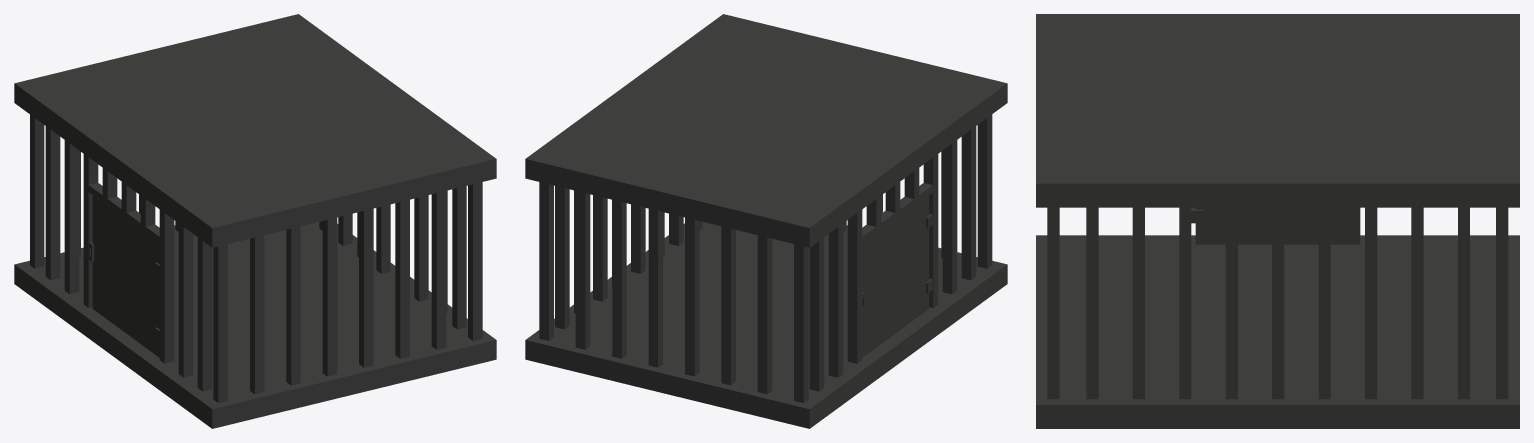
Rendered from klatka.fbx.
3 renders of one model, left to right at view 1: azimuth 30°, elevation 25°; view 2: azimuth 150°, elevation 25°; view 3: azimuth 270°, elevation 25°, orthographic. The views are drawn at different scales.
Parts seen in each view (by area): view 1: klatka, klatka.001; view 2: klatka, klatka.001; view 3: klatka, klatka.001.
Boxes of the visible parts, x1,y1,x2,y2 form: klatka: [14, 14, 496, 428]; klatka.001: [89, 195, 159, 357]; klatka: [525, 14, 1007, 428]; klatka.001: [862, 195, 928, 357]; klatka: [1036, 14, 1519, 428]; klatka.001: [1195, 207, 1360, 244].
Bounding box in the file's own units: 94.37 × 78.25 × 52.84.
